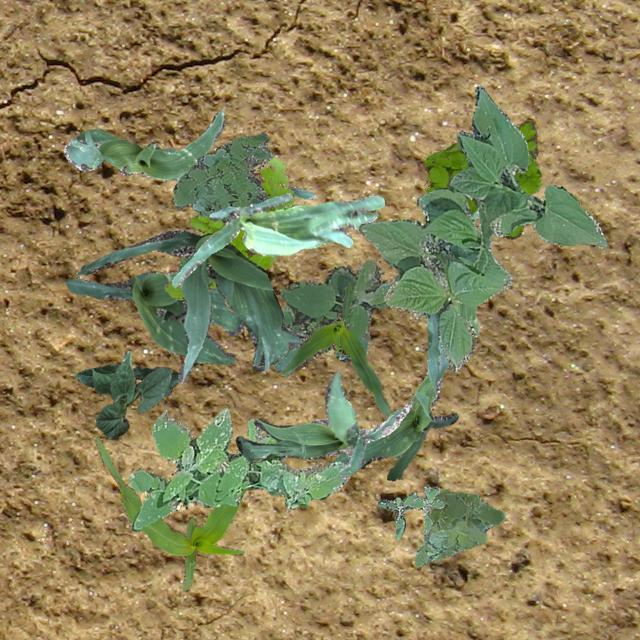crop: (357, 85, 606, 372), (76, 230, 288, 382), (93, 434, 245, 590), (62, 106, 314, 198), (66, 270, 300, 364), (332, 314, 458, 480), (170, 192, 384, 286), (234, 370, 410, 478), (282, 284, 391, 416), (96, 349, 172, 438), (74, 364, 180, 396), (454, 204, 478, 336)
weed: (128, 406, 348, 530), (164, 156, 292, 310), (424, 120, 540, 238), (272, 260, 390, 370), (172, 132, 270, 224), (414, 488, 504, 566), (377, 484, 442, 538)
